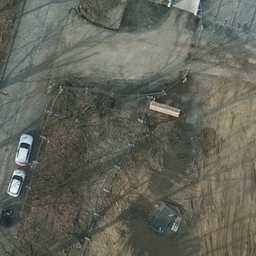car: (14, 133, 33, 163), (7, 168, 25, 198), (1, 206, 13, 232)
